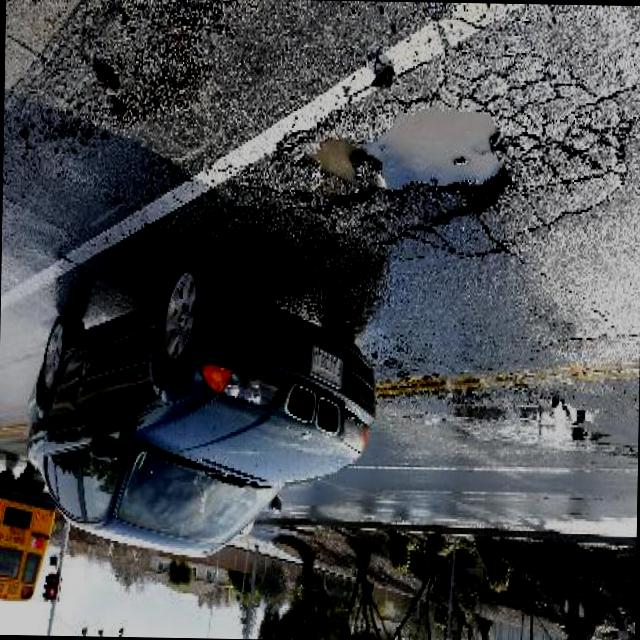pothole: (290, 106, 508, 232)
